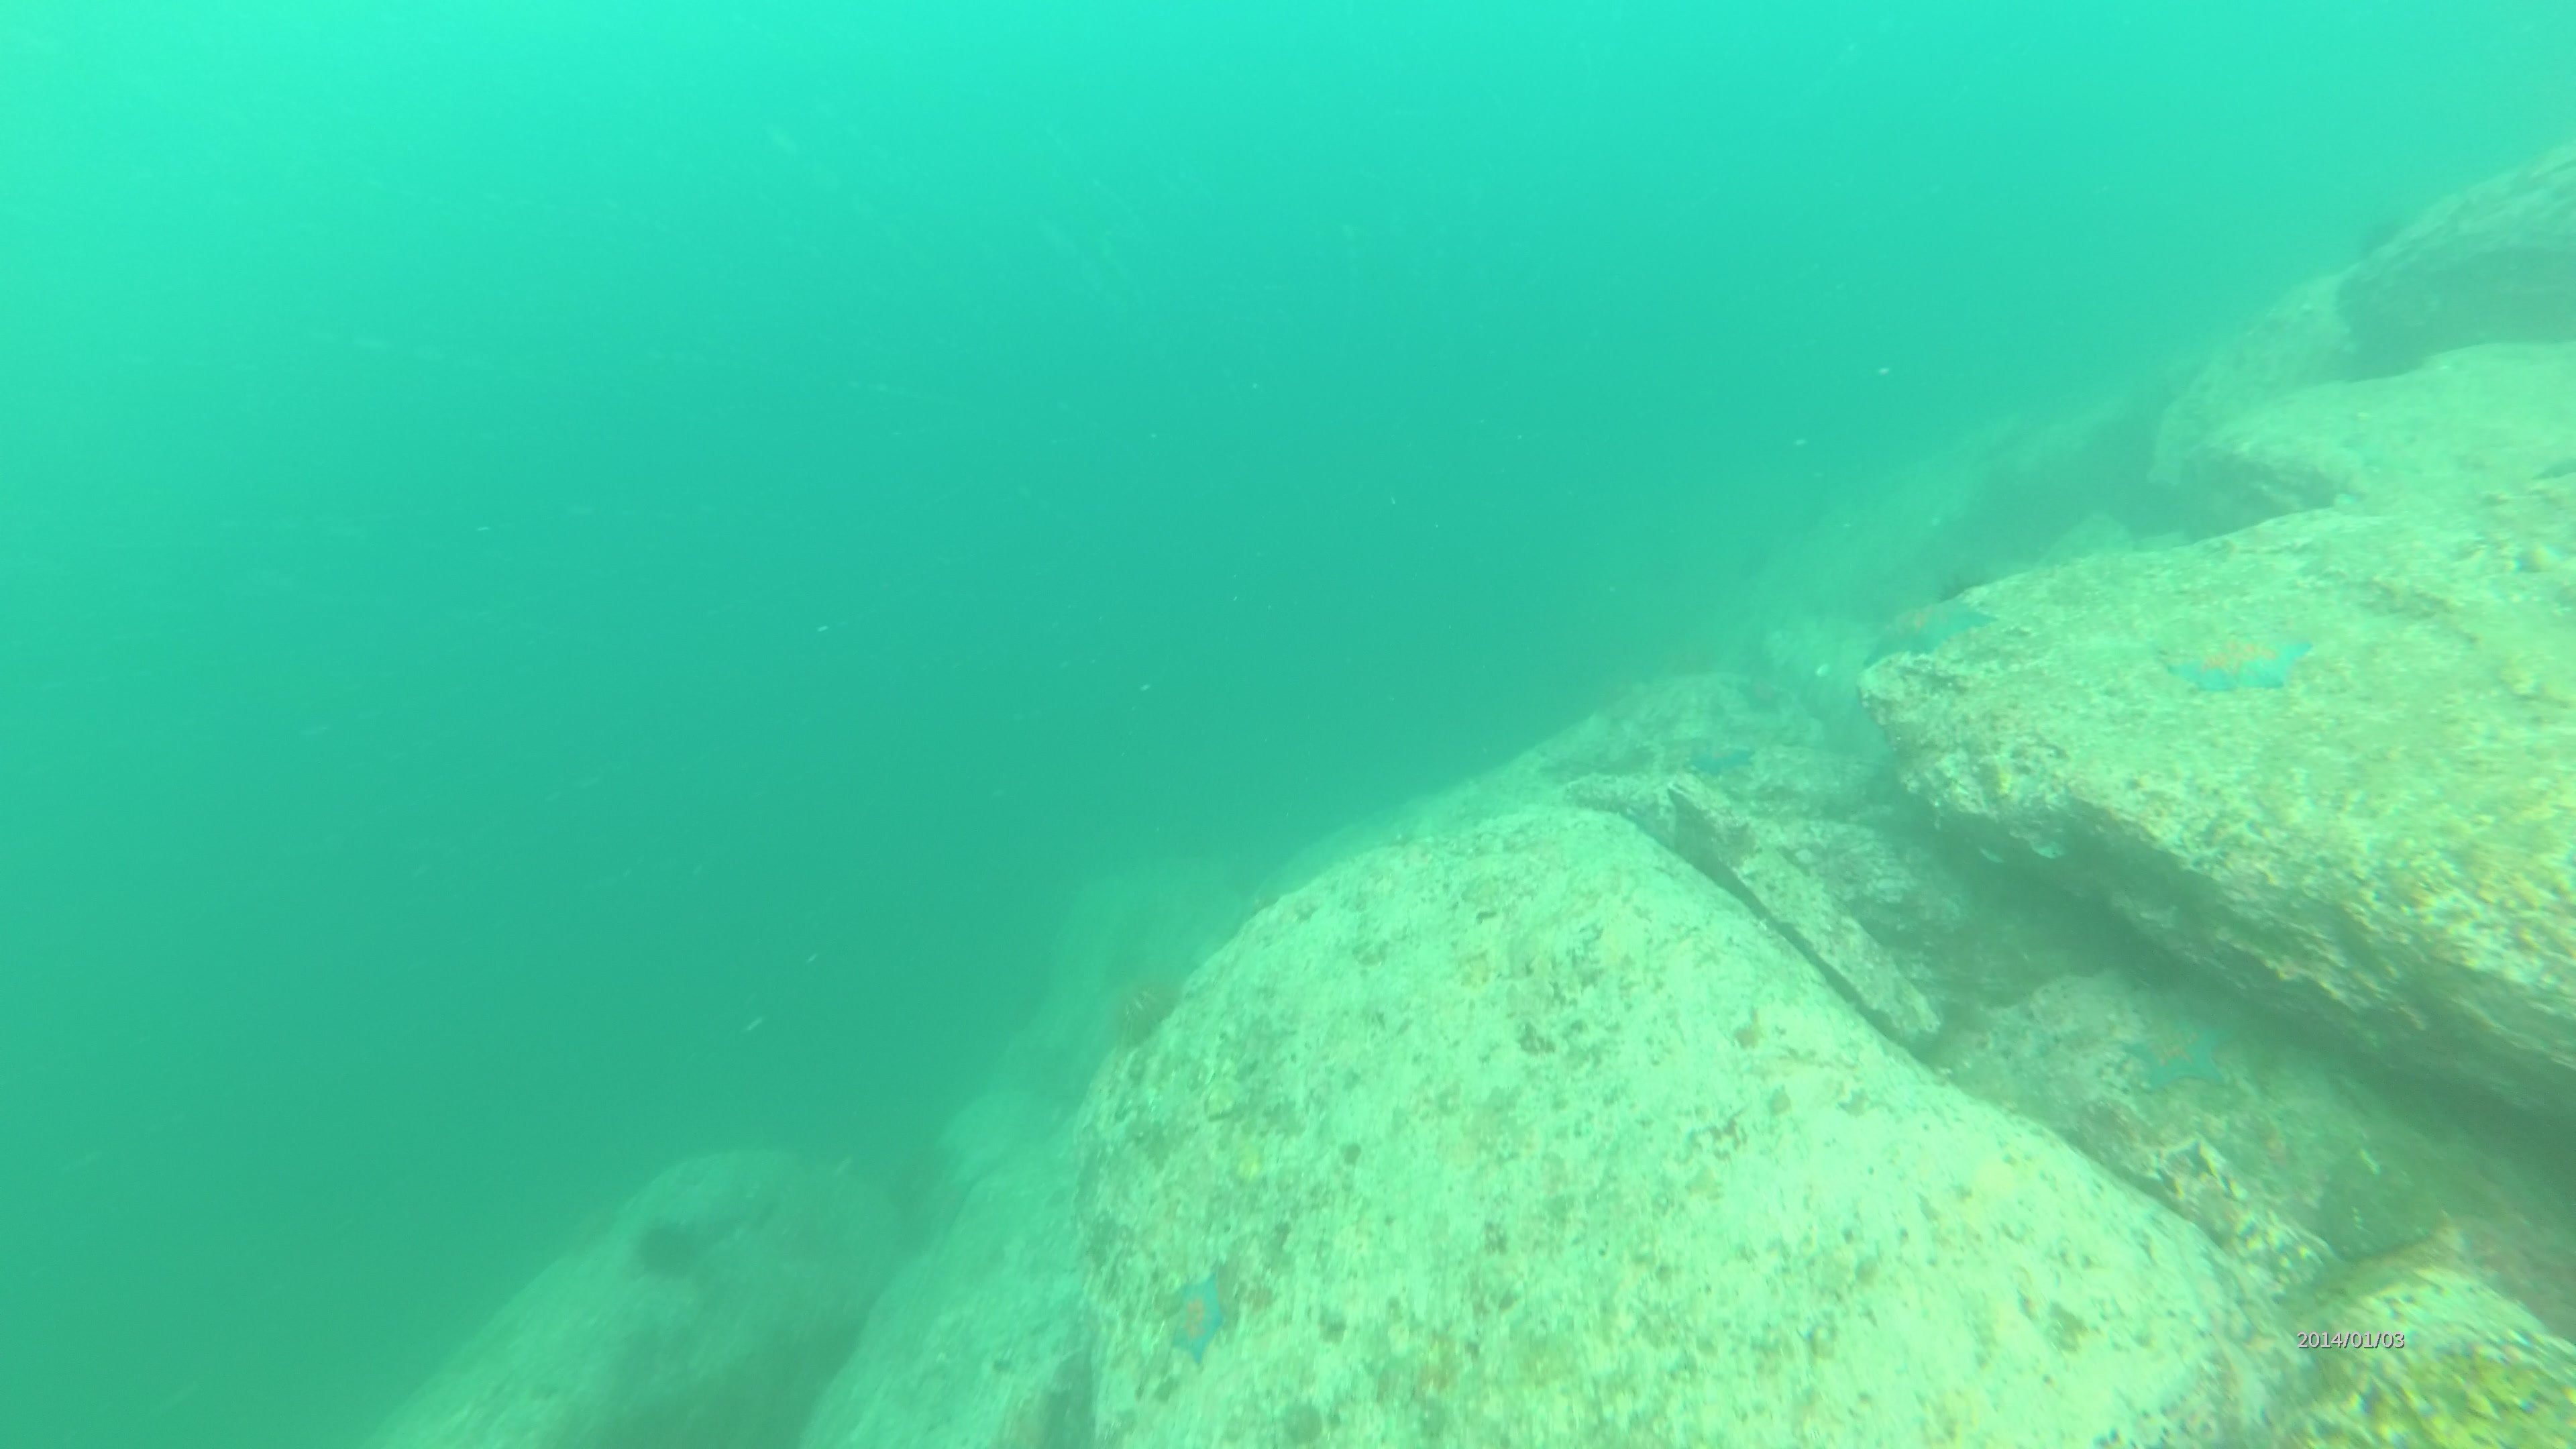echinus: (1104, 970, 1185, 1044), (630, 1221, 706, 1288)
starfish: (2176, 619, 2311, 702), (2127, 1005, 2240, 1092), (1863, 596, 1997, 665), (1164, 1279, 1233, 1362), (1684, 731, 1757, 778)
